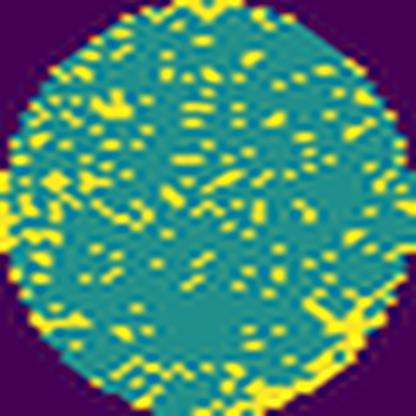Edge-Loc: (193, 271, 408, 416)
